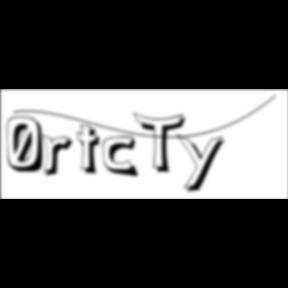0: (7, 115, 52, 174)
T: (134, 112, 192, 176)
c: (104, 136, 144, 180)
r: (42, 134, 80, 180)
t: (76, 124, 107, 179)
y: (177, 132, 231, 196)
